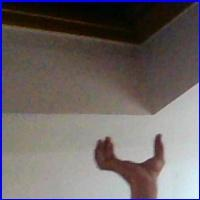space: (89, 131, 175, 188)
